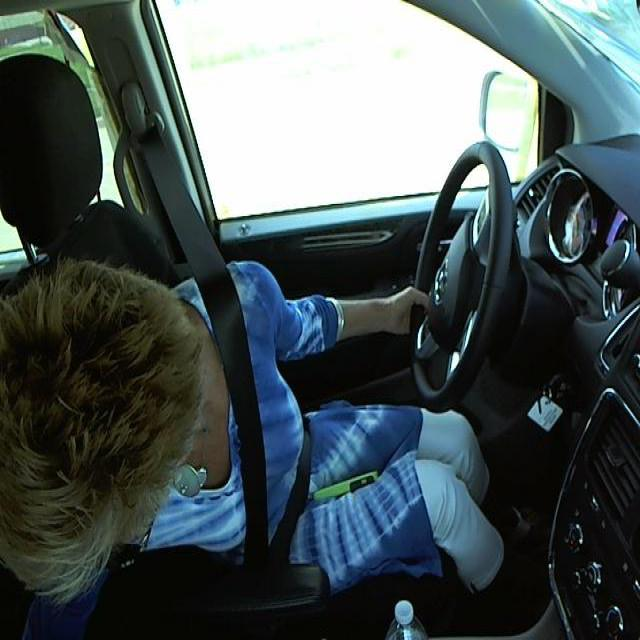seatbelt: (192, 276, 321, 557)
